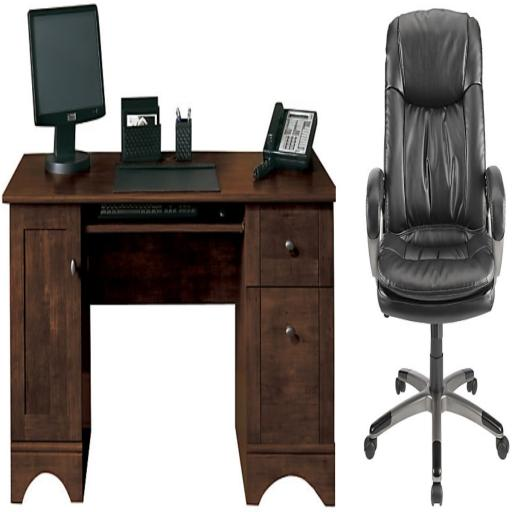chair: (364, 8, 510, 506)
desk: (2, 149, 336, 506)
